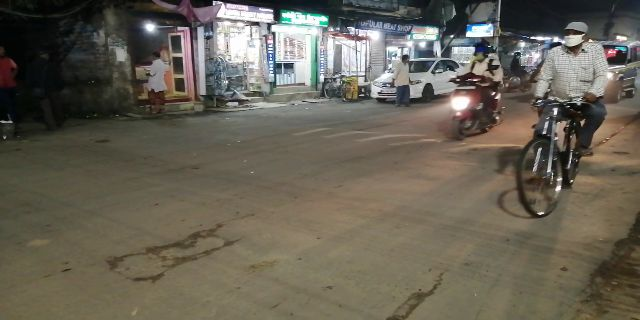Car: (367, 53, 461, 104)
Cycle: (517, 22, 603, 216)
Motorbike: (448, 41, 502, 136)
